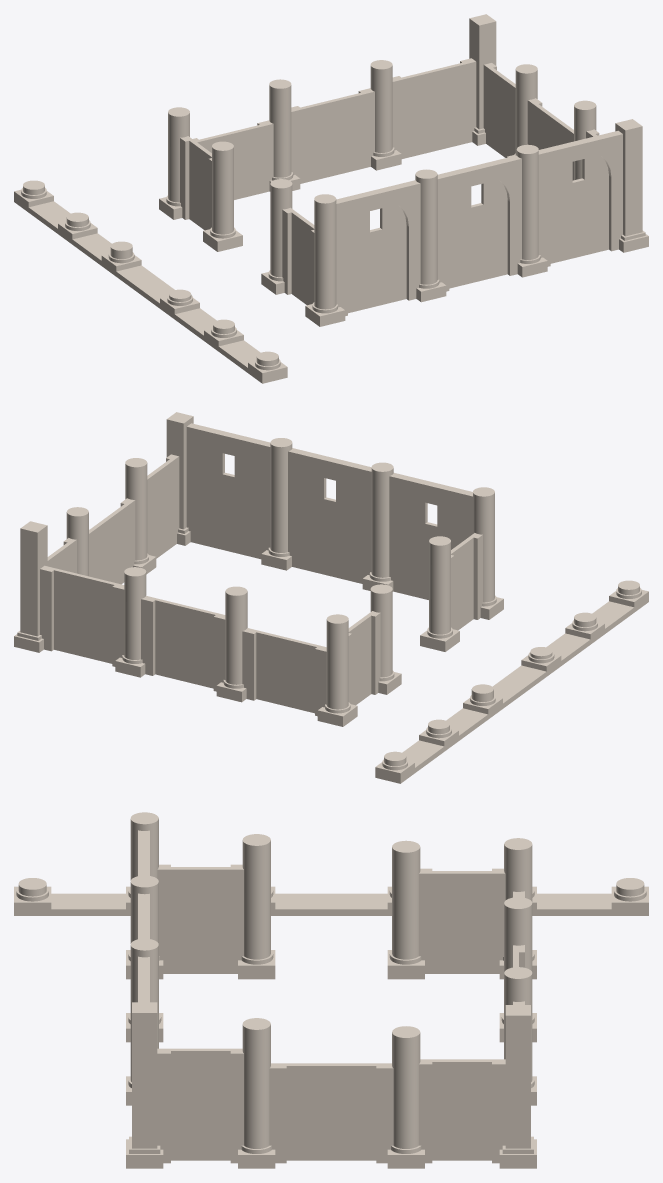
The model's file is URUK CITY RUIN.glb.
The picture shows the model from 3 angles, top to bottom: view 1: azimuth 30°, elevation 25°; view 2: azimuth 150°, elevation 25°; view 3: azimuth 270°, elevation 25°; orthographic projection. The views are drawn at different scales.
Parts seen in each view (by area): view 1: Geom3D; view 2: Geom3D; view 3: Geom3D.
Part boxes in pixels (<box>): Geom3D: <box>14,14,648,383</box>; Geom3D: <box>14,412,648,783</box>; Geom3D: <box>14,812,648,1168</box>.
Size of the model in its own units: 4.25 by 1.13 by 4.25.
